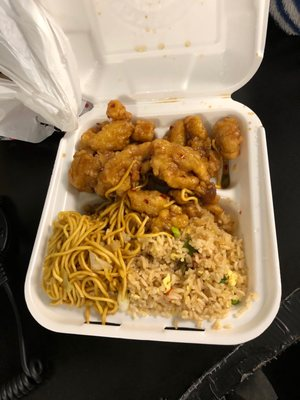sushi: (0, 26, 283, 372)
